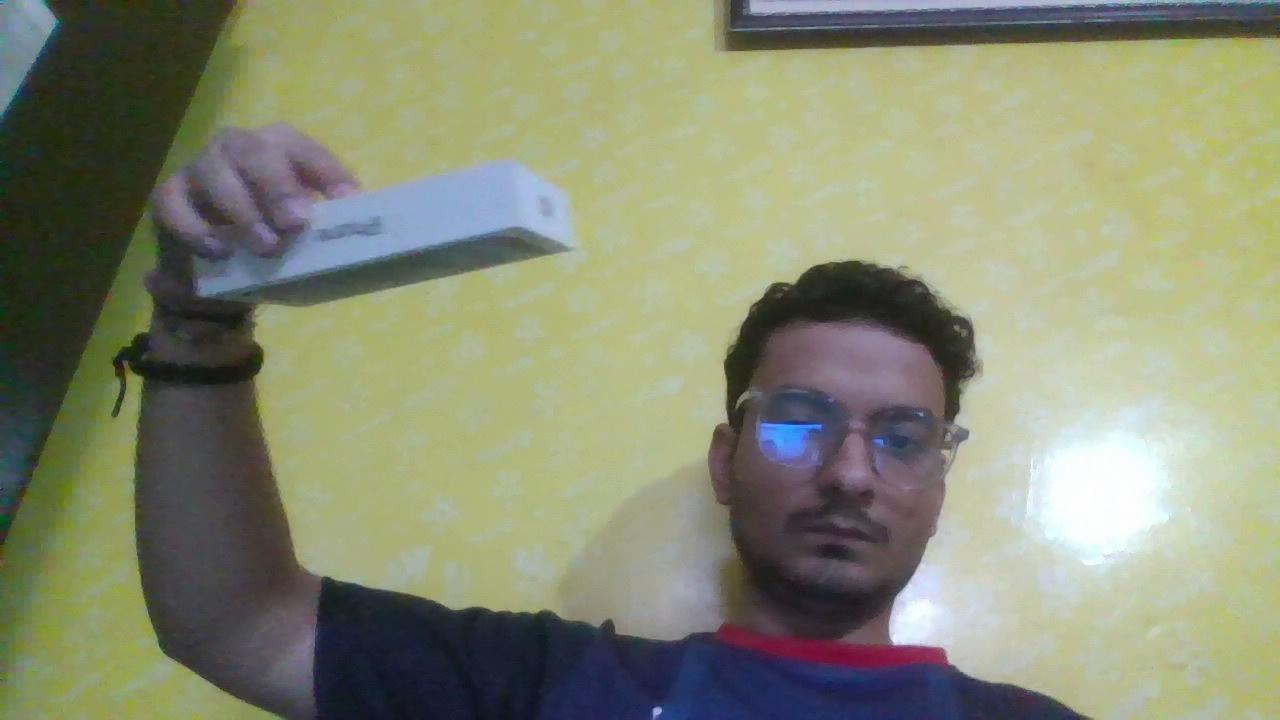Phone: (129, 163, 591, 350)
